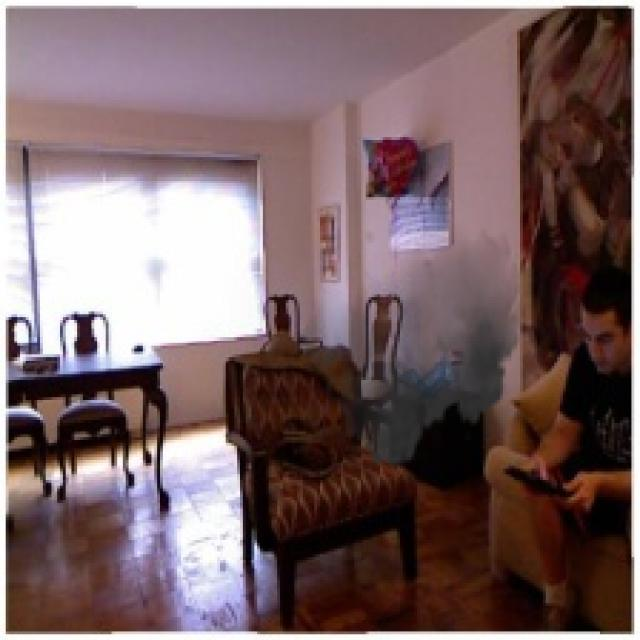Smoke: (291, 217, 526, 477)
